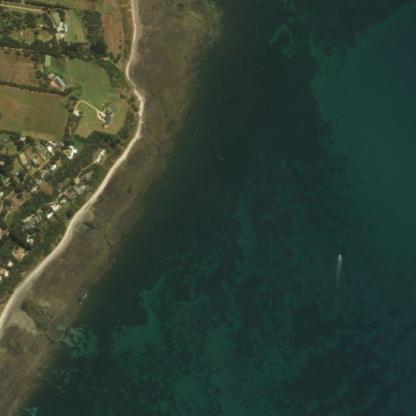ship: (336, 252, 339, 256)
